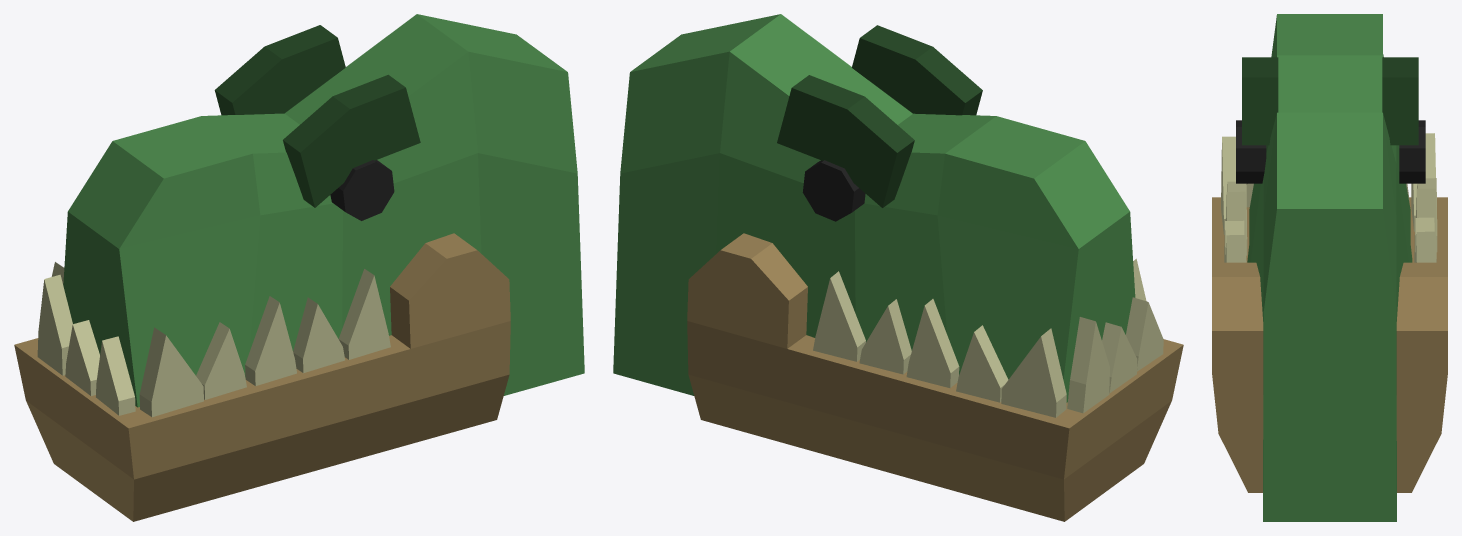
Rendered from t-rex+head (2).fbx.
3 renders of one model, left to right at view 1: azimuth 30°, elevation 25°; view 2: azimuth 150°, elevation 25°; view 3: azimuth 270°, elevation 25°, orthographic. The views are drawn at different scales.
Visible parts, largest first — view 1: pCube109; view 2: pCube109; view 3: pCube109.
Boxes of the visible parts, left/top/right/bottom form: pCube109: left=14, top=14, right=584, bottom=521; pCube109: left=613, top=14, right=1183, bottom=521; pCube109: left=1212, top=14, right=1447, bottom=521.
Bounding box in the file's own units: 0.794 × 0.5915 × 0.327.
